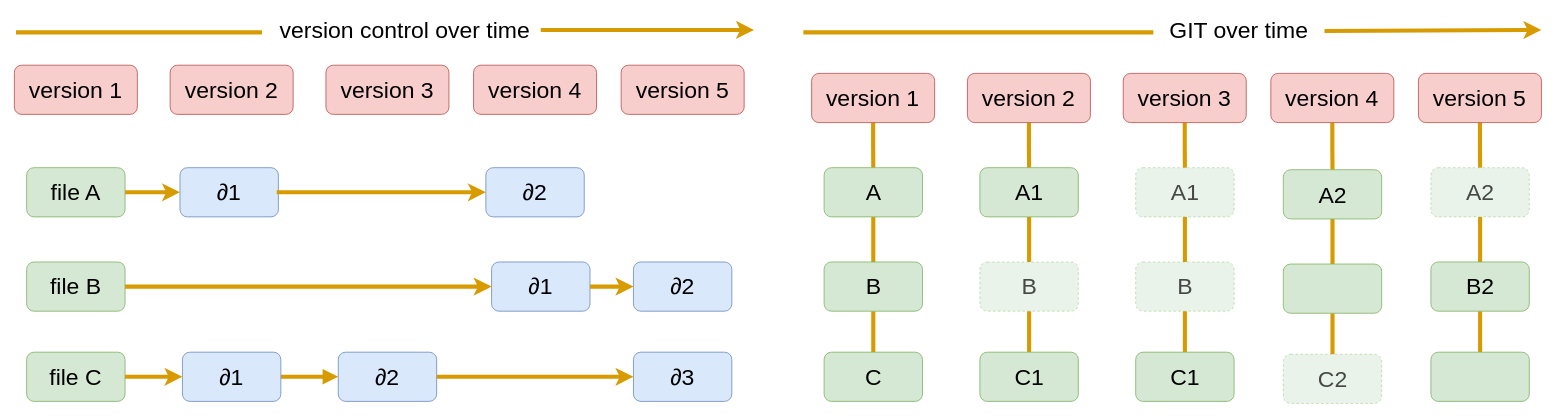
This 1565x417 diagram has some shape labels left out. Here are the shapes that lost their labels. From the top down, the centre of each, then its label:
At (x=1332, y=288): "B1".
At (x=1479, y=376): "C13".
